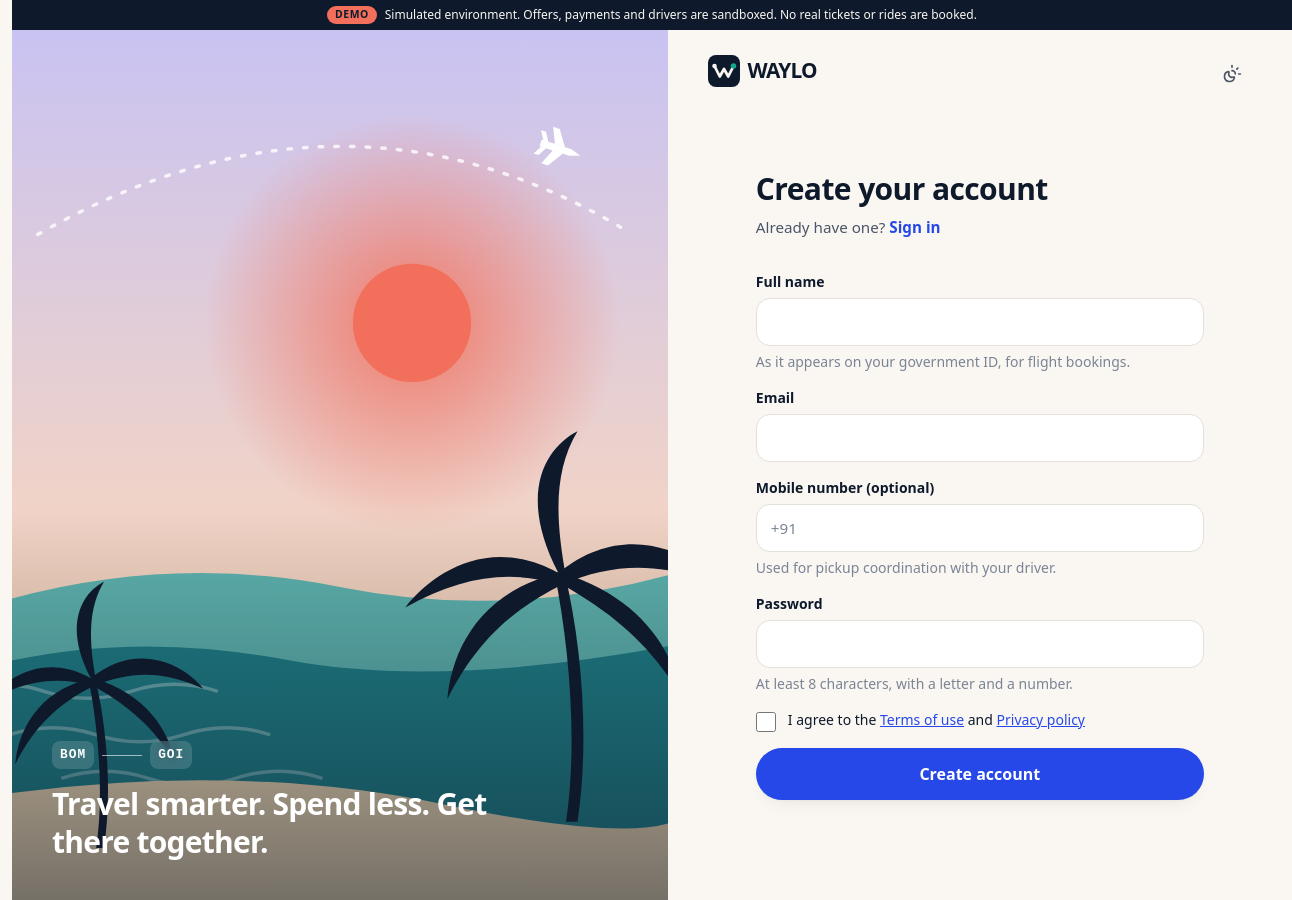
it: Register page › requires accepting the terms and shows server errors
Type "Ananya Rao" into the field labelled "Full name".
click(980, 322); type("Ananya Rao")  # box left=756, top=298, right=1204, bottom=346
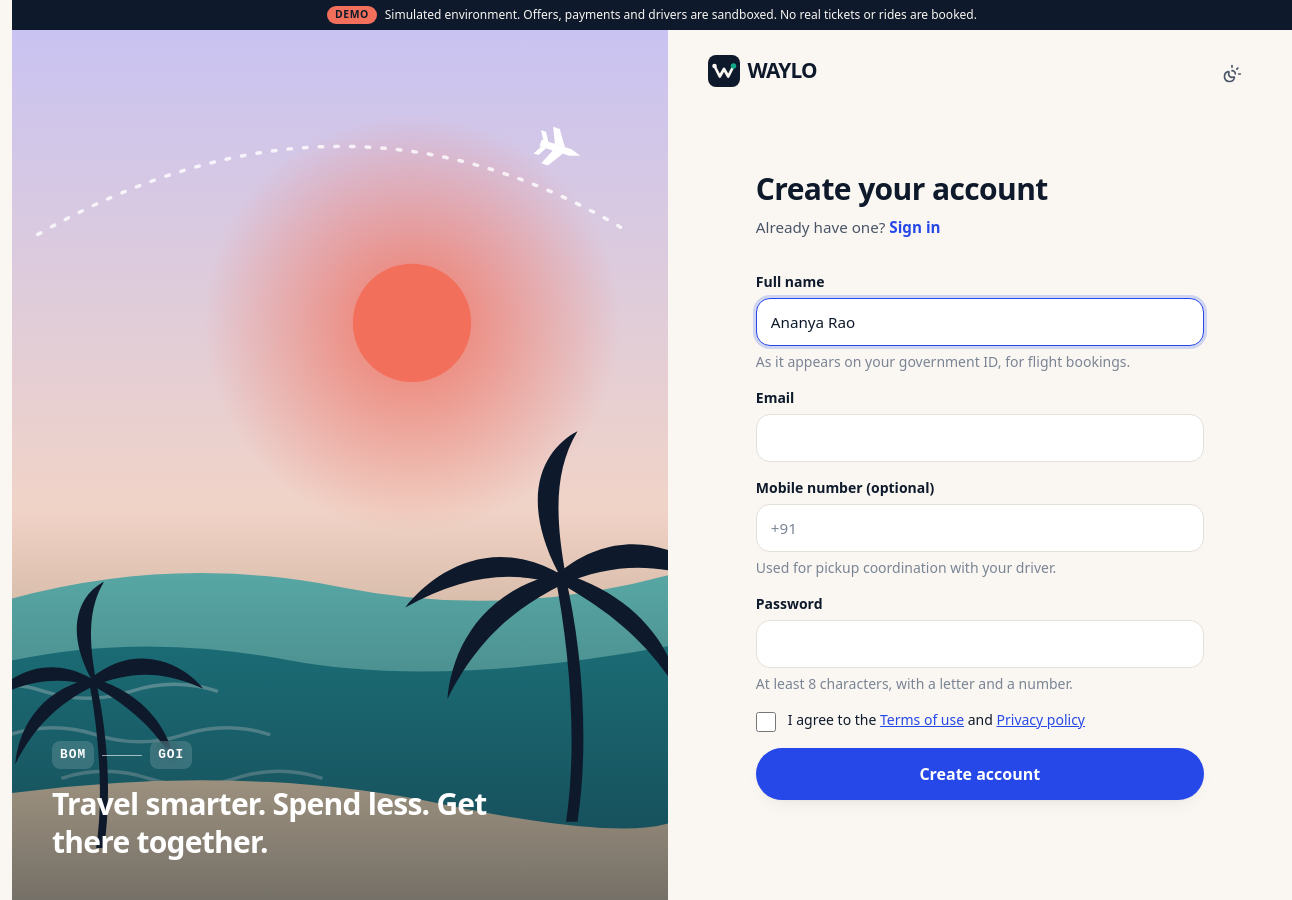
Type "ana@example.com" into the field labelled "Email".
click(980, 438); type("ana@example.com")  # box left=756, top=414, right=1204, bottom=462
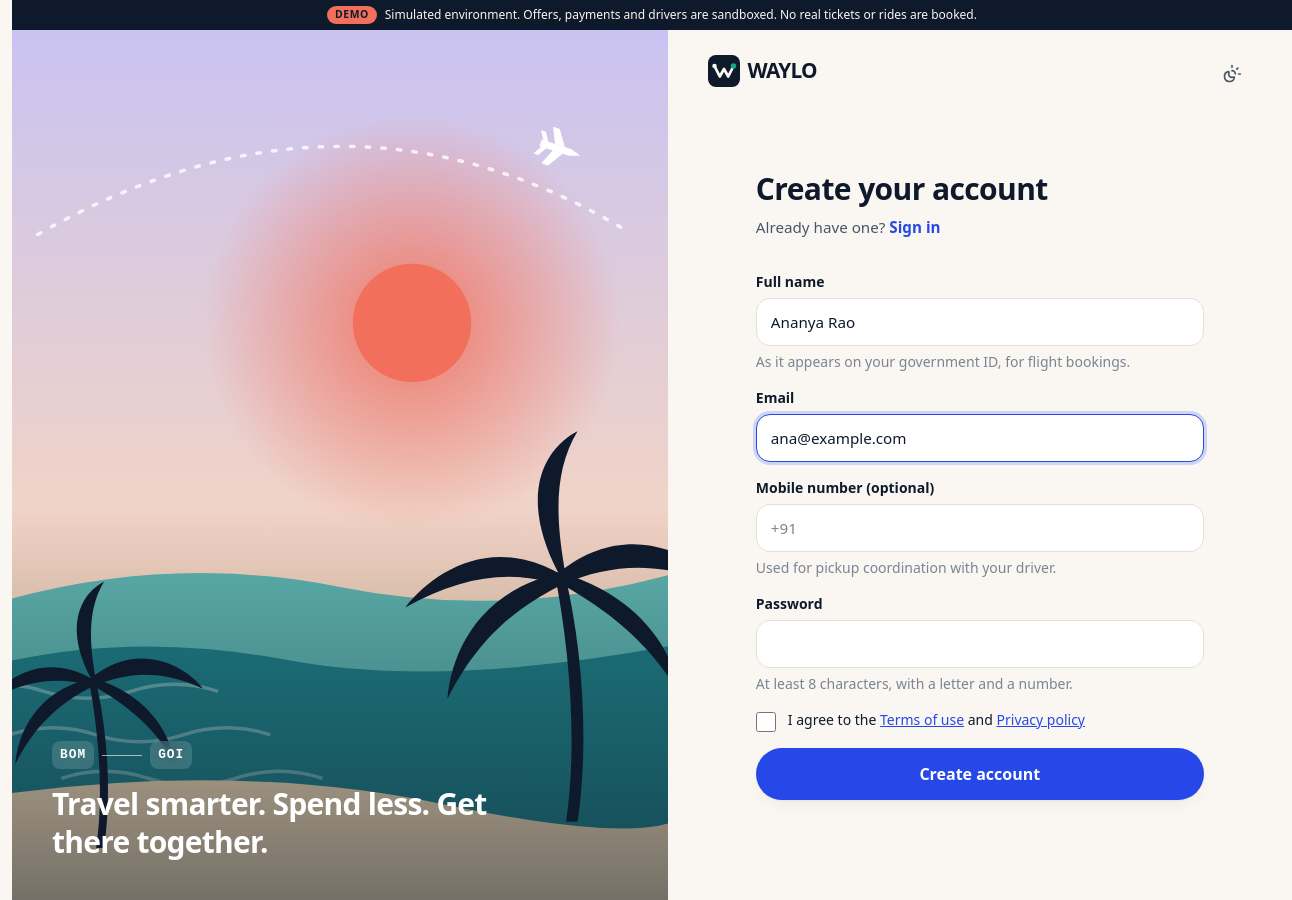
Type "journey2026" into the password field labelled "Password".
click(980, 644); type("journey2026")  # box left=756, top=620, right=1204, bottom=668
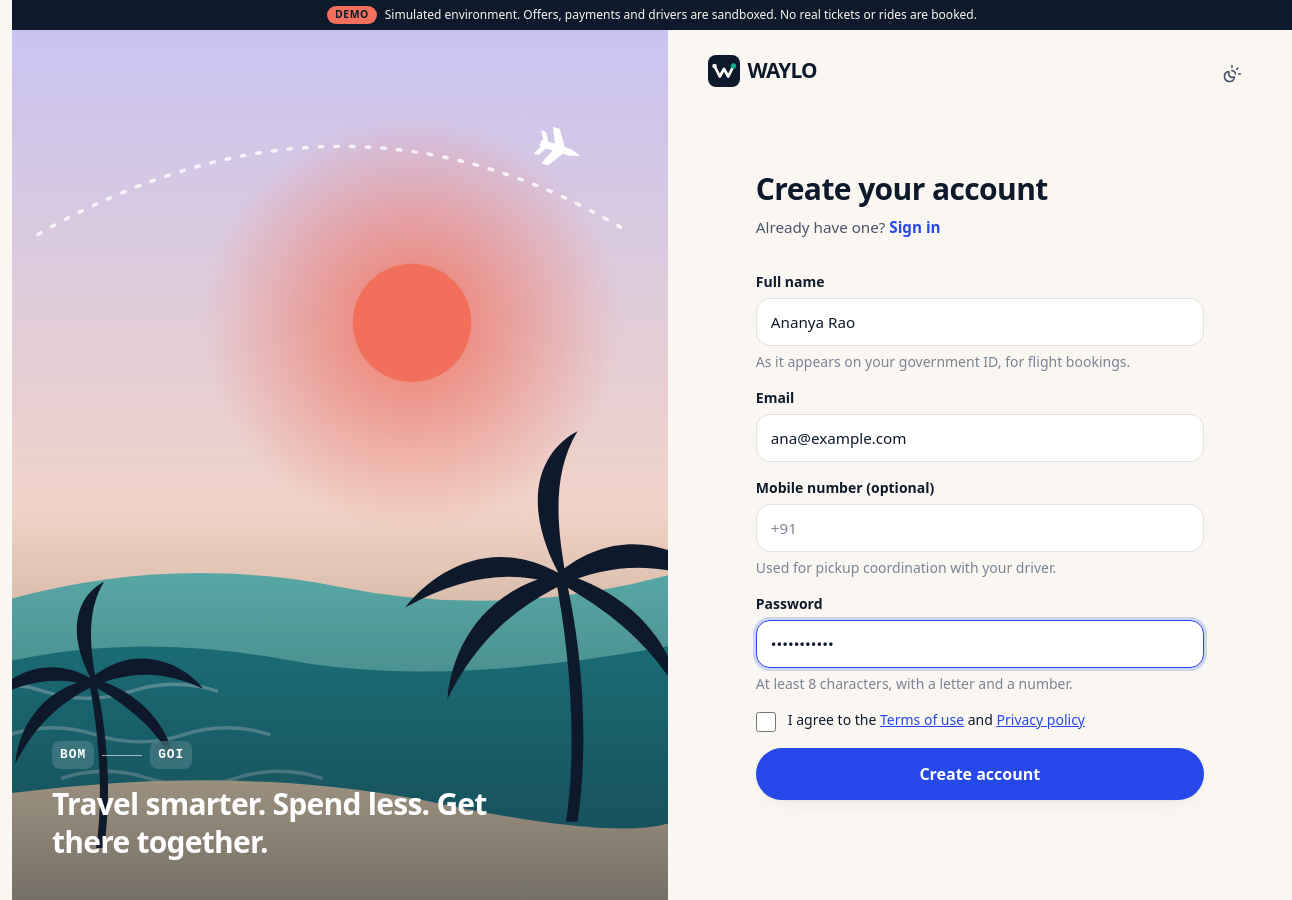
Click the button "Create account".
click(980, 774)  # box left=756, top=748, right=1204, bottom=800
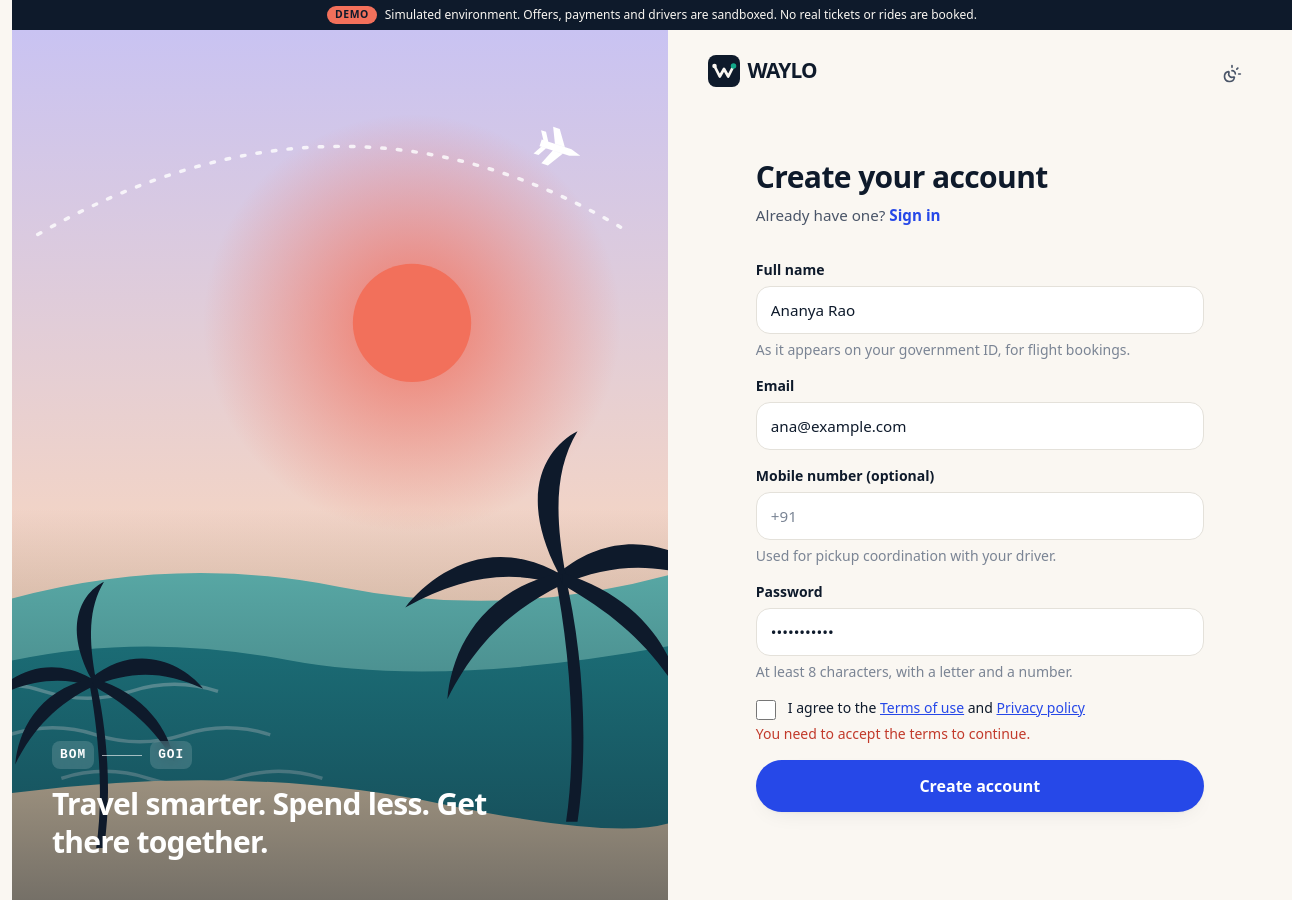
Now the text "You need to accept the terms to continue." is shown, box left=756, top=724, right=1030, bottom=743
Click the checkbox.
click(766, 710)  # box left=756, top=700, right=776, bottom=720
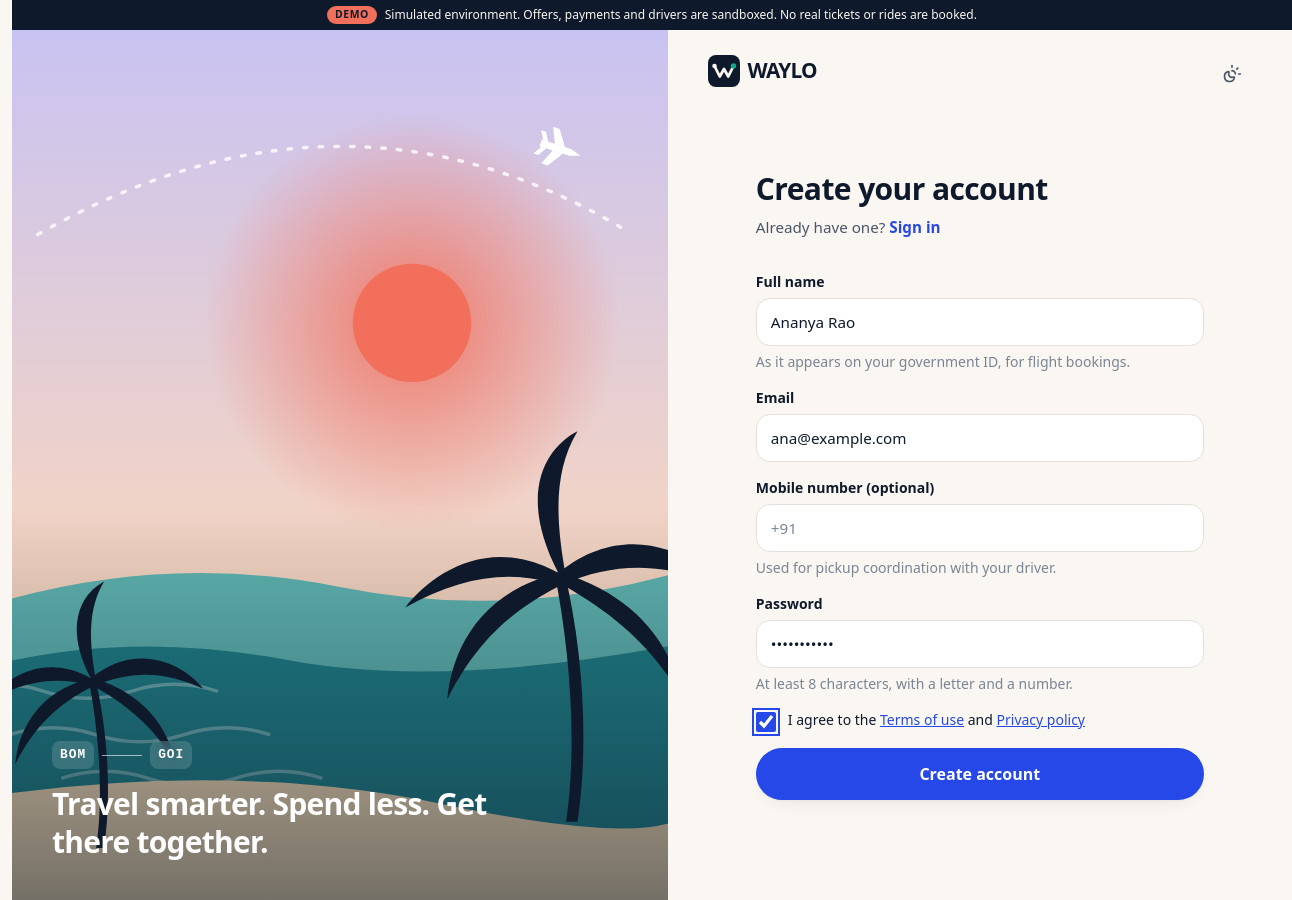
Click the button "Create account".
click(980, 774)  # box left=756, top=748, right=1204, bottom=800
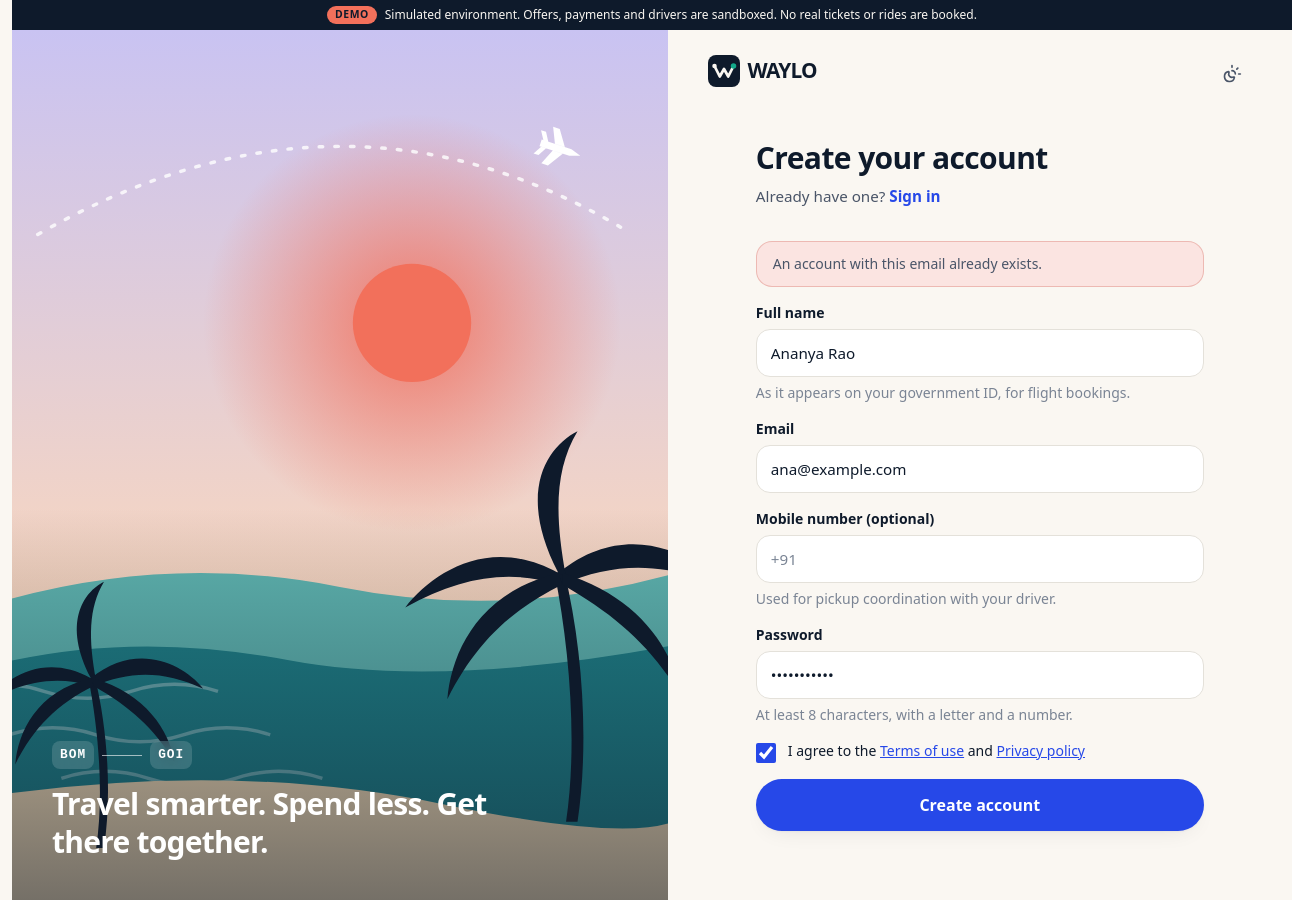
Now the text "An account with this email already exists." is shown, box left=773, top=254, right=1042, bottom=273
